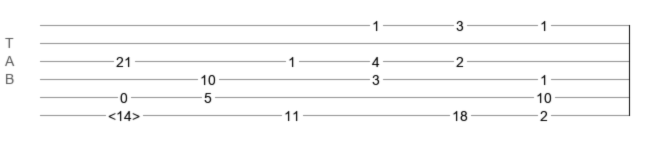0: (120, 90, 128, 100)
1: (288, 54, 296, 64), (372, 18, 380, 28), (540, 72, 548, 82), (540, 18, 548, 28)
10: (200, 72, 216, 82), (536, 90, 552, 100)
11: (284, 108, 300, 118)
18: (452, 108, 468, 118)
2: (456, 54, 464, 64), (540, 108, 548, 118)
21: (116, 54, 132, 64)
3: (372, 72, 380, 82), (456, 18, 464, 28)
4: (372, 54, 380, 64)
5: (204, 90, 212, 100)
harmonic: (108, 108, 140, 118)
